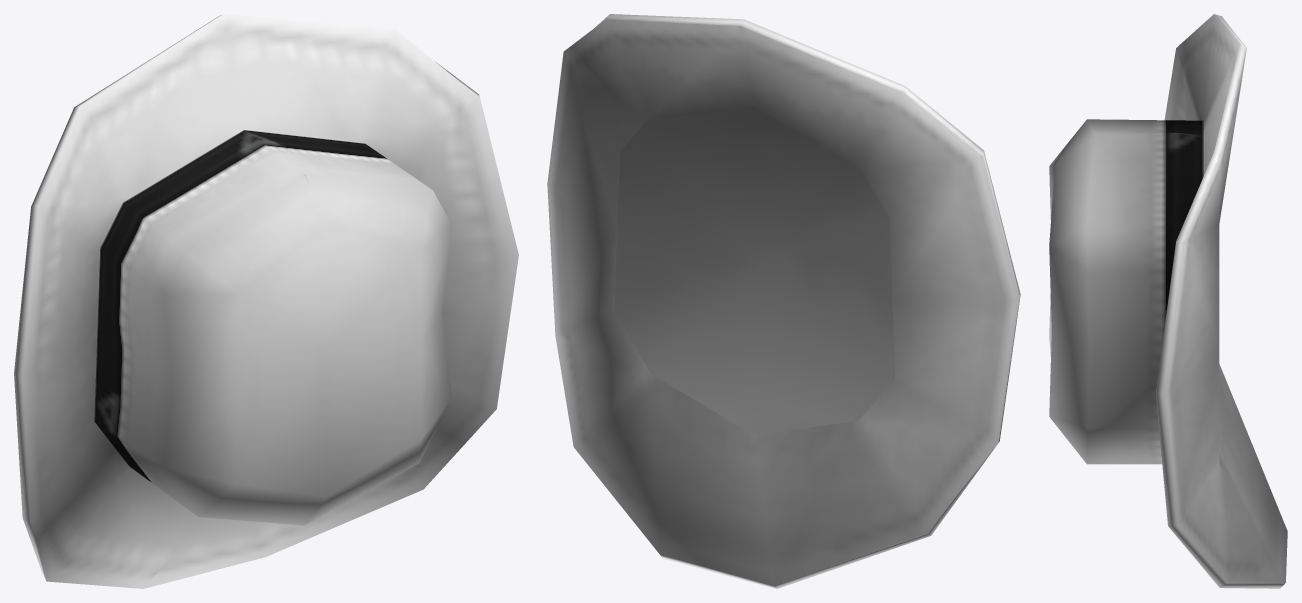
The model's file is Avatar_Cowboy_H_01_0_c9934cb9__Avatar_Cowboy_C_01_4060721f_c1f257.obj.
3 views of the same model, side by side, from view 1: azimuth 30°, elevation 25°; view 2: azimuth 150°, elevation 25°; view 3: azimuth 270°, elevation 25° (orthographic). The views are drawn at different scales.
Size of the model in its own units: 1.27 by 1.39 by 0.5793.
Materials: 1 (1 with a texture image).
